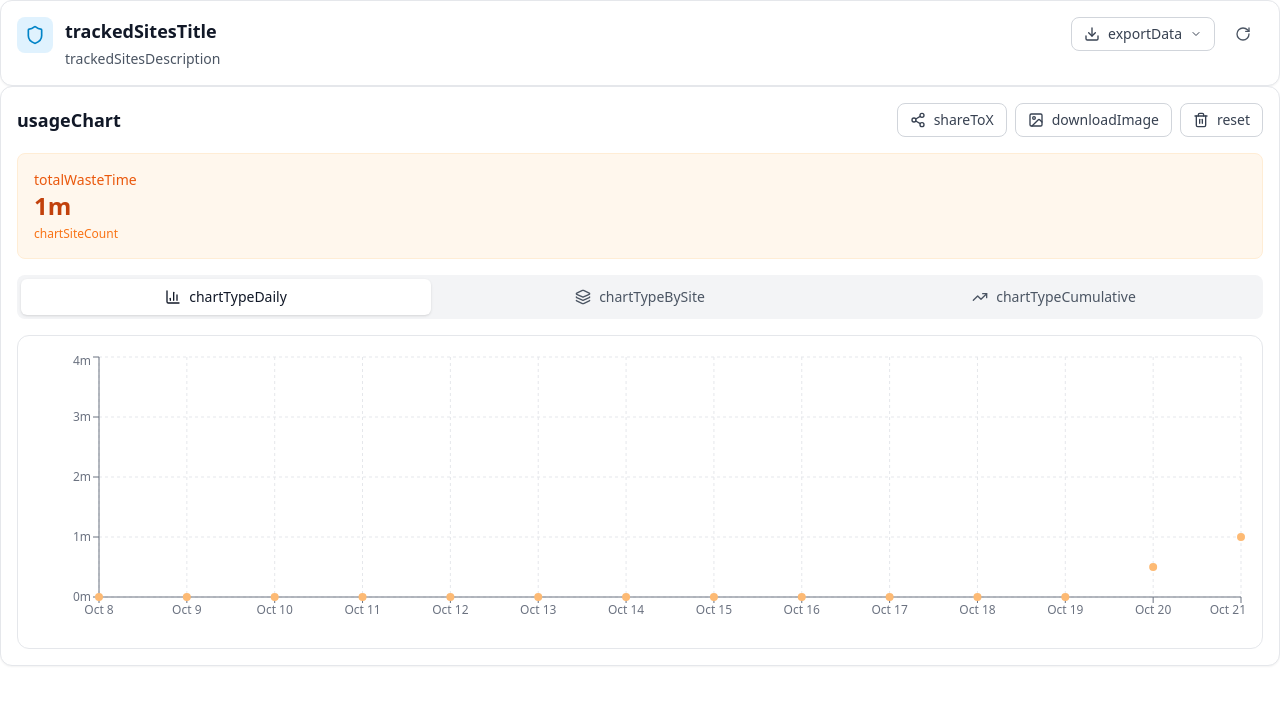
AnalyticsExportBar › X へのシェア › 保持期間・追跡中のサイトの合計でシェア文を作り、成功を伝える
Click the button titled "shareToX".
click(952, 120)  # box x1=897 y1=103 x2=1007 y2=137
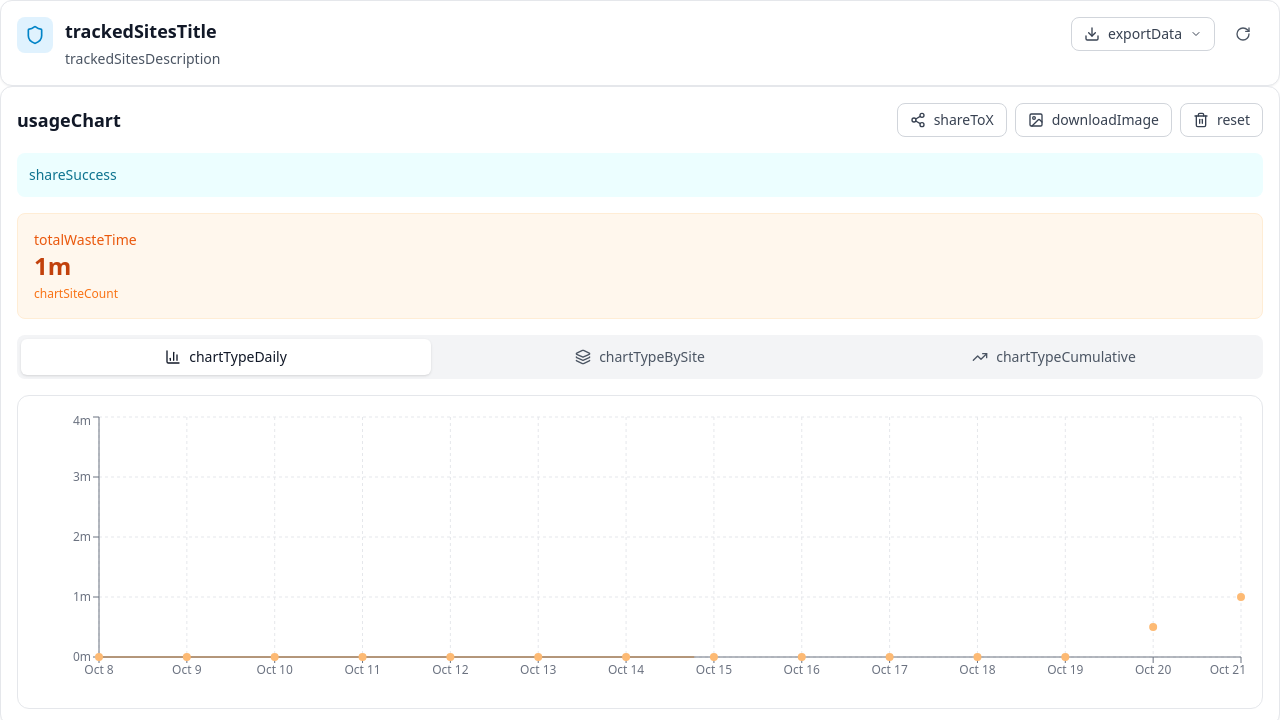
Expected: the text "shareSuccess" is shown, x1=17 y1=153 x2=1263 y2=197
